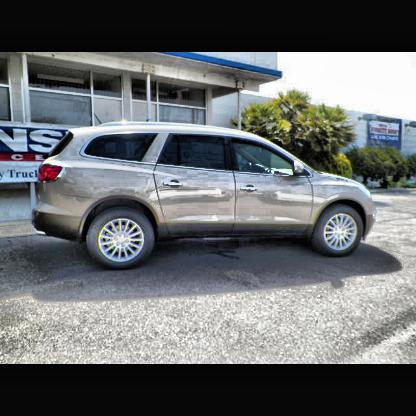Buick Enclave SUV 2012: (34, 122, 377, 271)
